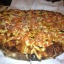pizza: (1, 8, 64, 59)
